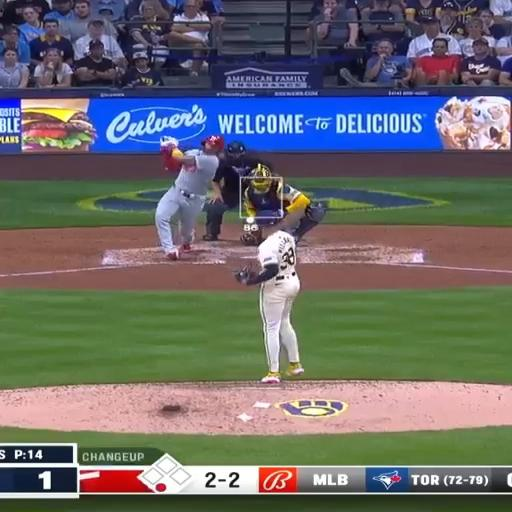bat: (163, 137, 194, 147)
